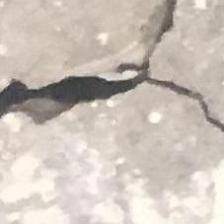Crack: (0, 0, 224, 155)
